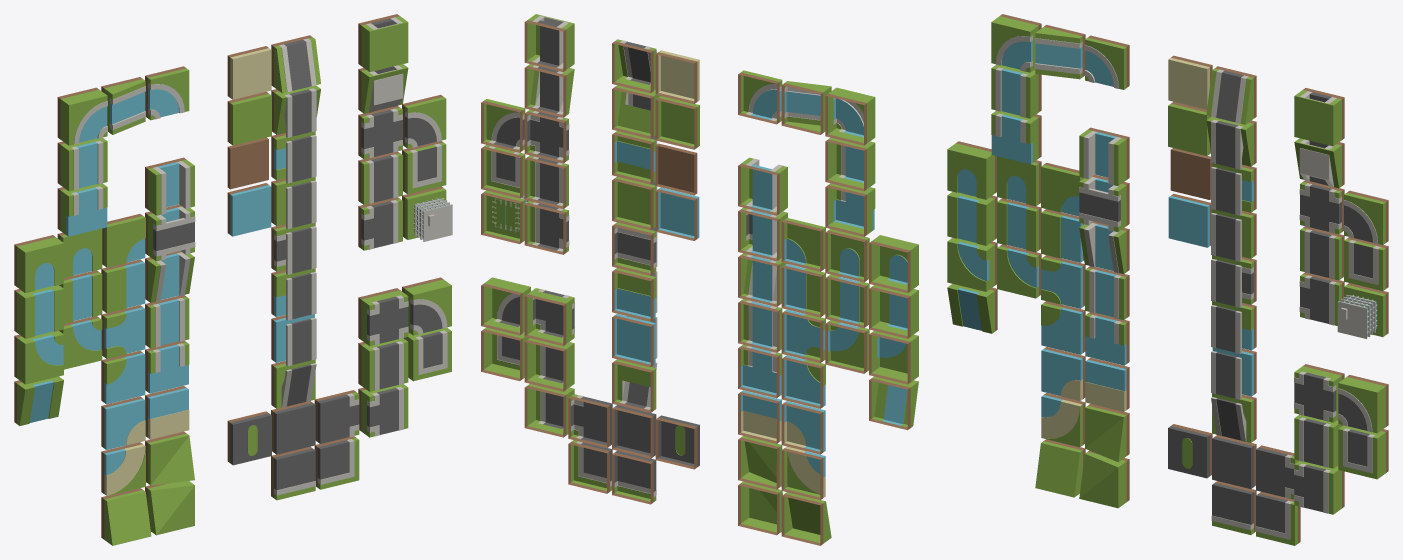
File: landscape_v2_000000.obj
3 views of the same model, side by side, from view 1: azimuth 30°, elevation 25°; view 2: azimuth 150°, elevation 25°; view 3: azimuth 330°, elevation 25° (orthographic).
Parts seen in each view (by area): view 1: road-crossing-high_Cube.552, road-tunnel-segment_Cube.349, canal-corner-high_Cube.556, river-end-high_Cube.560, canal-high-water-low_Cube.191, road-hill_Cube.271, hill-ramp_Cube.345, building-office-small_Cube.130, canal-straight-high_Cube.558, road-straight-high_Cube.272, canal-river-high_Cube.557, river-corner-high_Cube.562 (+45 smaller); view 2: canal-corner-high_Cube.556, road-crossing-high_Cube.552, road-tunnel-segment_Cube.349, river-end-high_Cube.560, canal-high-water-low_Cube.191, canal-straight-high_Cube.558, road-straight-high_Cube.272, canal-river-high_Cube.557, river-corner-high_Cube.562, river-straight-high_Cube.561, road-corner-high_Cube.255, road-tunnel-entry_Cube.553 (+45 smaller); view 3: road-corner-high_Cube.255, road-tunnel-segment_Cube.349, river-end-high_Cube.560, canal-high-water-low_Cube.191, building-office-small_Cube.130, road-hill_Cube.271, canal-hill_Cube.055, road-bridge-canal_Cube.210, road-end-high_Cube.554, canal-river-high_Cube.557, river-corner-high_Cube.562, road-crossing-high_Cube.552 (+45 smaller).
Boxes of the visible parts, x1,y1,x2,y2 form: road-crossing-high_Cube.552: [358, 288, 408, 346]; road-tunnel-segment_Cube.349: [358, 14, 408, 71]; canal-corner-high_Cube.556: [57, 87, 107, 145]; river-end-high_Cube.560: [14, 235, 63, 292]; canal-high-water-low_Cube.191: [145, 157, 194, 215]; road-hill_Cube.271: [271, 35, 320, 93]; hill-ramp_Cube.345: [101, 488, 151, 545]; building-office-small_Cube.130: [402, 186, 452, 241]; canal-straight-high_Cube.558: [57, 138, 107, 191]; road-straight-high_Cube.272: [358, 338, 408, 391]; canal-river-high_Cube.557: [57, 183, 107, 236]; river-corner-high_Cube.562: [14, 331, 63, 384]; canal-corner-high_Cube.556: [825, 87, 875, 145]; road-crossing-high_Cube.552: [524, 288, 574, 346]; road-tunnel-segment_Cube.349: [524, 14, 574, 72]; river-end-high_Cube.560: [869, 235, 918, 293]; canal-high-water-low_Cube.191: [738, 157, 787, 215]; canal-straight-high_Cube.558: [825, 137, 875, 191]; road-straight-high_Cube.272: [524, 338, 574, 391]; canal-river-high_Cube.557: [825, 183, 875, 236]; river-corner-high_Cube.562: [869, 330, 918, 384]; river-straight-high_Cube.561: [869, 285, 918, 338]; road-corner-high_Cube.255: [481, 277, 530, 335]; road-tunnel-entry_Cube.553: [524, 64, 574, 117]; road-corner-high_Cube.255: [1338, 375, 1388, 433]; road-tunnel-segment_Cube.349: [1294, 88, 1344, 146]; river-end-high_Cube.560: [947, 141, 996, 199]; canal-high-water-low_Cube.191: [1079, 127, 1129, 185]; building-office-small_Cube.130: [1337, 283, 1388, 338]; road-hill_Cube.271: [1206, 66, 1256, 124]; canal-hill_Cube.055: [1035, 24, 1085, 79]; road-bridge-canal_Cube.210: [1079, 174, 1129, 232]; road-end-high_Cube.554: [1338, 425, 1388, 479]; canal-river-high_Cube.557: [991, 110, 1041, 164]; river-corner-high_Cube.562: [947, 237, 997, 291]; road-crossing-high_Cube.552: [1294, 364, 1344, 422].
Bounding box in the file's own units: 88 × 89.02 × 6.5.
Materials: 1 (1 with a texture image).
